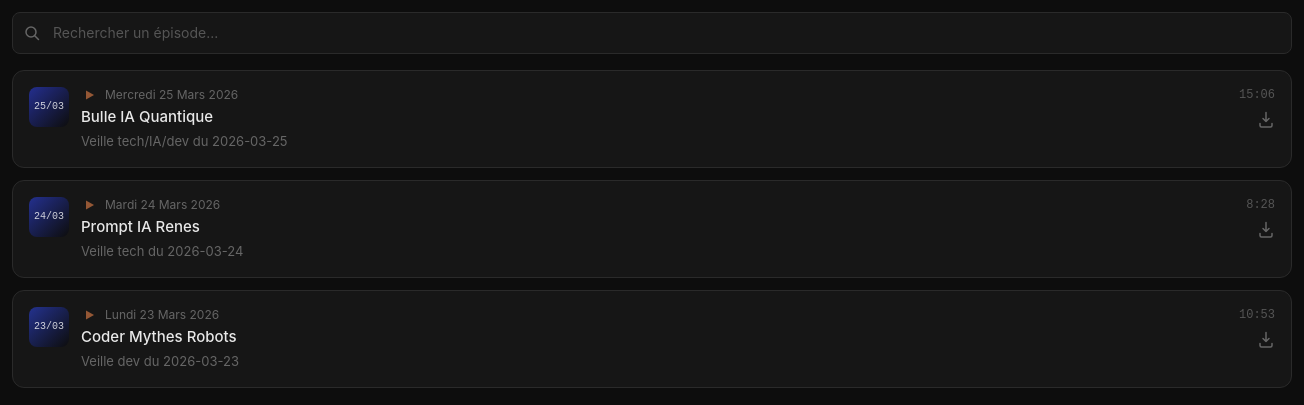
Test: EpisodeList › shows no results on bad search
The width and height of the screenshot is (1304, 405).
Type "zzzznotfound" into the field with placeholder "Rechercher un épisode..." at (652,33), box x1=12 y1=12 x2=1292 y2=54
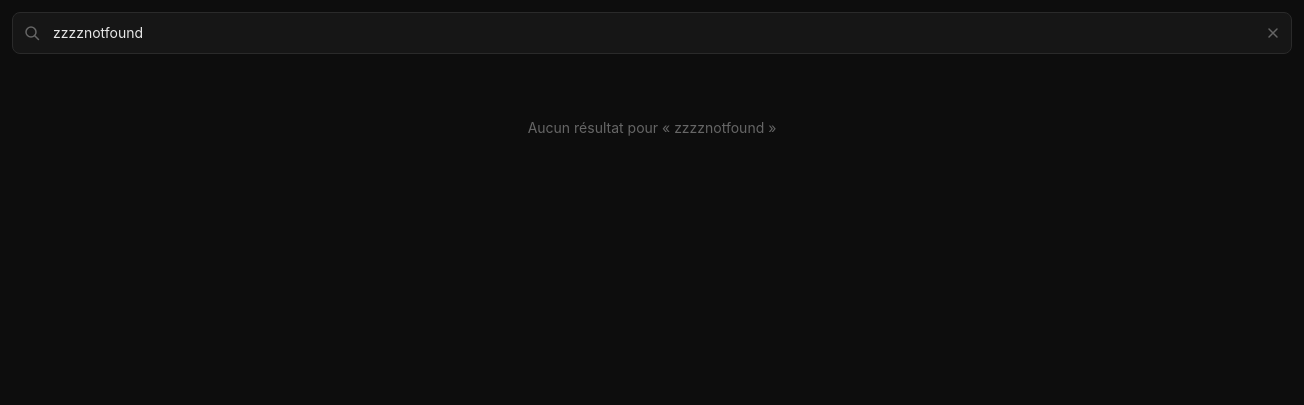
Result: the text "Aucun résultat pour « zzzznotfound »" is shown at x1=528 y1=119 x2=776 y2=136
